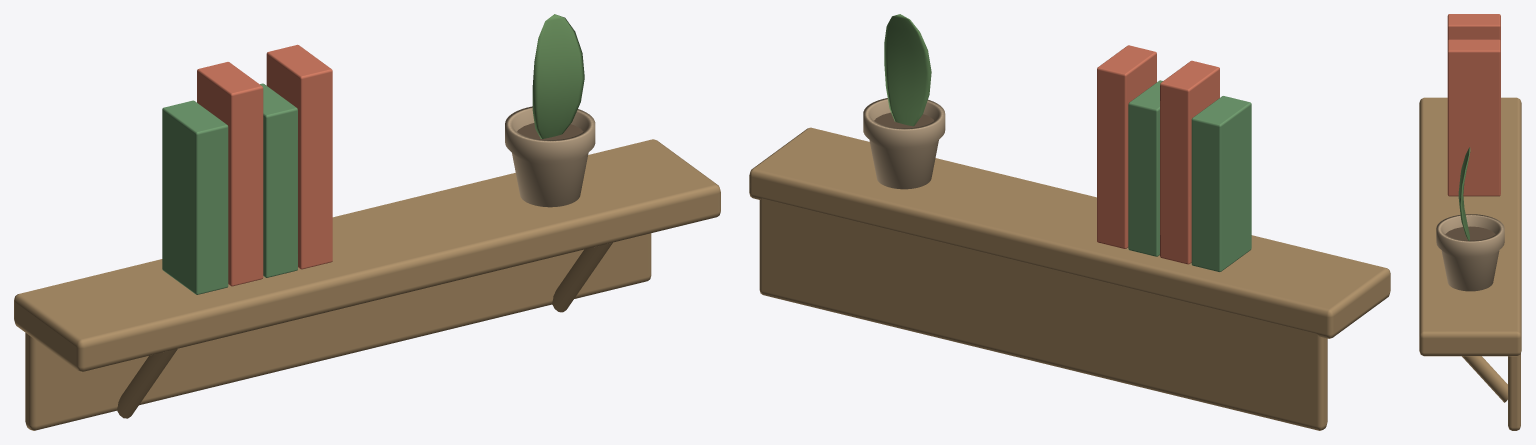
File: wallshelf.glb
3 views of the same model, side by side, from view 1: azimuth 30°, elevation 25°; view 2: azimuth 150°, elevation 25°; view 3: azimuth 270°, elevation 25° (orthographic). The views are drawn at different scales.
Parts seen in each view (by area): view 1: shelf-board, wall-receiving-cleat, shelf-book-0, shelf-book-1, shelf-book-3, shelf-book-2, shelf-pot-hollow-vessel, shelf-leaf, shelf-bracket--0-5, shelf-bracket-0-5; view 2: wall-receiving-cleat, shelf-board, shelf-book-0, shelf-book-1, shelf-book-3, shelf-book-2, shelf-pot-hollow-vessel, shelf-leaf; view 3: shelf-board, shelf-book-3, shelf-pot-hollow-vessel, shelf-book-1, wall-receiving-cleat, shelf-bracket-0-5, shelf-leaf, shelf-pot-contained-soil.
Part boxes in pixels (x1,y1,x2,y2): shelf-board: (14,139,720,372); wall-receiving-cleat: (25,233,651,430); shelf-book-0: (162,100,228,294); shelf-book-1: (197,62,263,286); shelf-book-3: (266,44,332,269); shelf-book-2: (260,83,297,277); shelf-pot-hollow-vessel: (505,106,595,207); shelf-leaf: (532,14,584,138); shelf-bracket--0-5: (117,349,177,418); shelf-bracket-0-5: (552,242,612,312); wall-receiving-cleat: (759,198,1327,430); shelf-board: (749,127,1390,338); shelf-book-0: (1191,96,1251,271); shelf-book-1: (1160,60,1219,264); shelf-book-3: (1097,45,1156,248); shelf-book-2: (1128,80,1162,256); shelf-pot-hollow-vessel: (863,98,945,189); shelf-leaf: (884,14,931,126); shelf-board: (1419,97,1521,356); shelf-book-3: (1447,39,1500,196); shelf-pot-hollow-vessel: (1436,214,1504,291); shelf-book-1: (1447,14,1500,40); wall-receiving-cleat: (1508,353,1520,430); shelf-bracket-0-5: (1462,356,1507,402); shelf-leaf: (1458,147,1470,240); shelf-pot-contained-soil: (1445,226,1495,240).
Size of the model in its own units: 1.48 by 0.7366 by 0.27.
